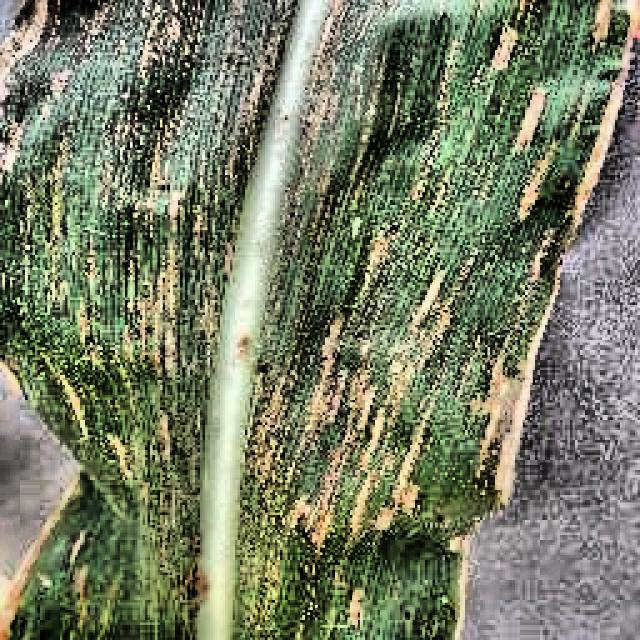gray_spot: (20, 0, 512, 640)
